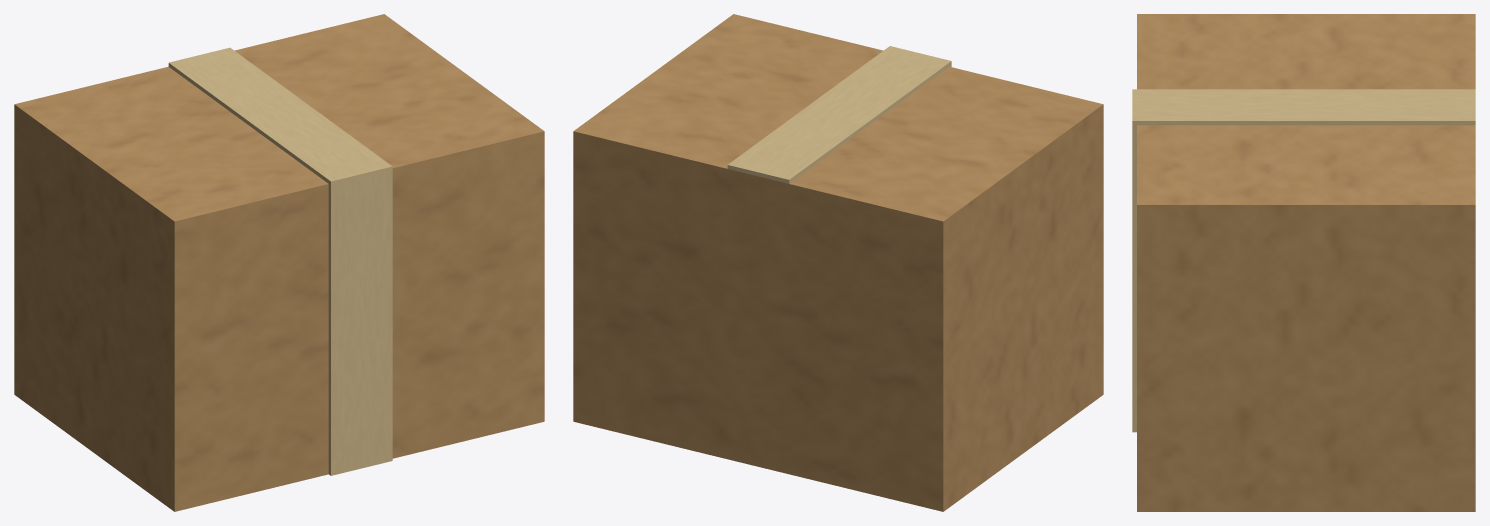
File: box_small.obj
The picture shows the model from 3 angles, left to right: view 1: azimuth 30°, elevation 25°; view 2: azimuth 150°, elevation 25°; view 3: azimuth 270°, elevation 25°; orthographic projection. The views are drawn at different scales.
Size of the model in its own units: 0.48 by 0.365 by 0.365.
1 material, 1 textured.
